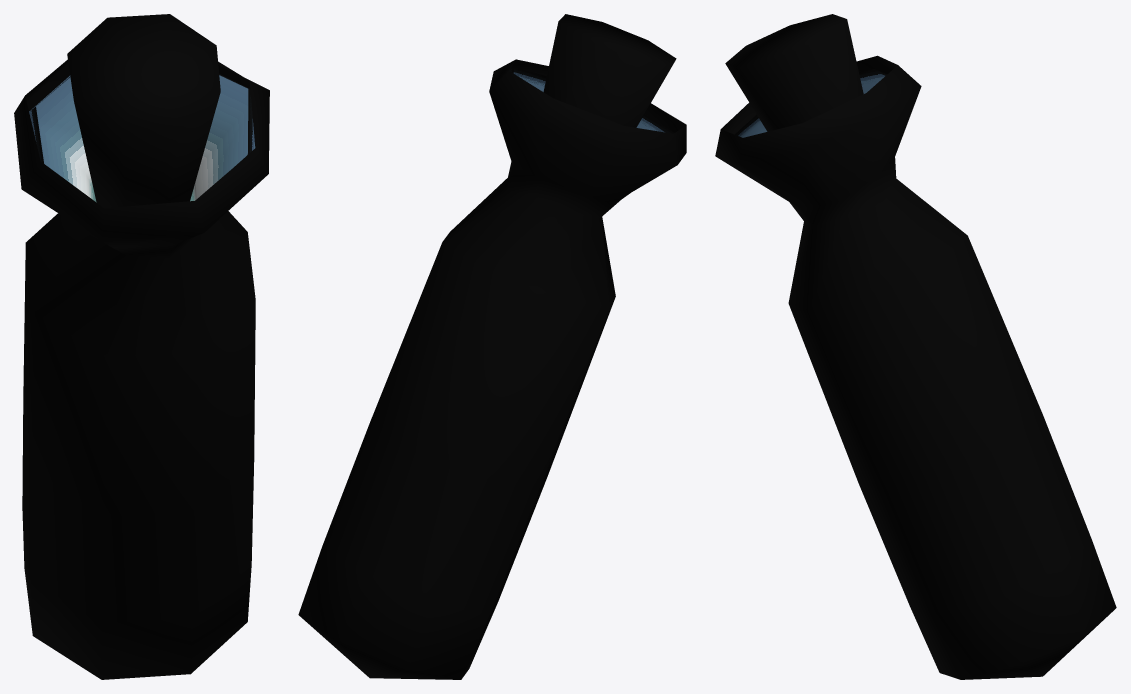
Rendered from HEALTH_POTION.obj.
3 renders of one model, left to right at view 1: azimuth 30°, elevation 25°; view 2: azimuth 150°, elevation 25°; view 3: azimuth 270°, elevation 25°, orthographic. The views are drawn at different scales.
Visible parts, largest first — view 1: HealthPotion; view 2: HealthPotion; view 3: HealthPotion.
Part boxes in pixels (x1,y1,x2,y2): HealthPotion: (14,14,269,679); HealthPotion: (298,14,686,679); HealthPotion: (715,14,1116,679).
Bounding box in the file's own units: 16.69 × 34.82 × 21.07.
